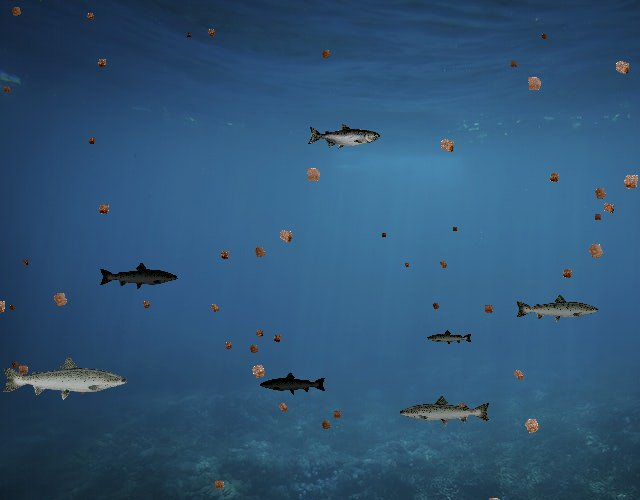Fish: (0, 355, 129, 401), (398, 394, 492, 428), (514, 293, 600, 324), (99, 261, 180, 291), (308, 123, 381, 150), (259, 372, 327, 396), (427, 329, 474, 346)
Pellet: (244, 357, 272, 385), (272, 223, 299, 250), (616, 166, 640, 196), (6, 1, 27, 22), (82, 9, 98, 25), (538, 31, 551, 44), (19, 256, 31, 268)
